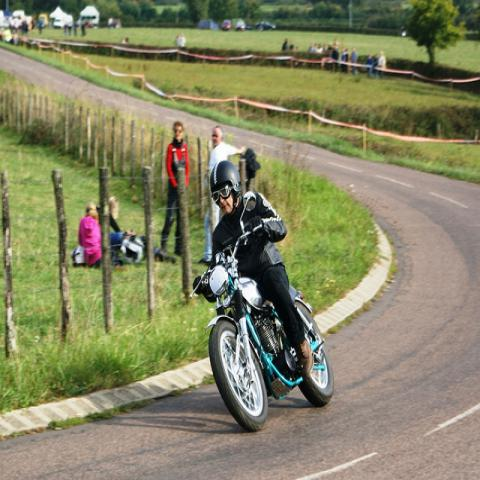car: (195, 18, 219, 30), (255, 22, 276, 32), (234, 20, 246, 31), (221, 19, 231, 30)
motorcycle: (198, 226, 333, 435)
truck: (77, 7, 100, 25)
